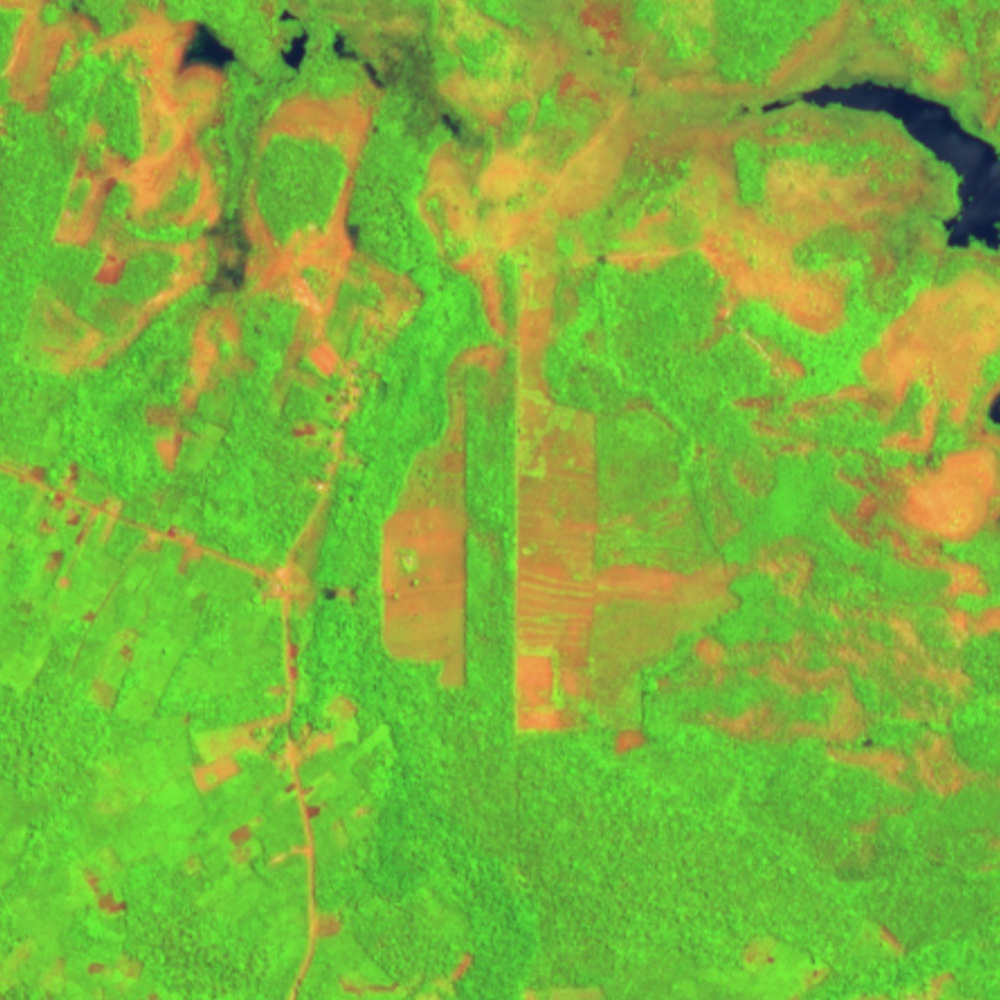legal: (1, 1, 426, 479), (430, 1, 1000, 340), (507, 254, 760, 757), (764, 355, 980, 796), (179, 695, 406, 995), (374, 340, 475, 697), (11, 459, 217, 593), (72, 854, 160, 1000), (56, 539, 120, 714), (737, 927, 825, 996), (410, 948, 481, 1000), (514, 978, 608, 1000), (868, 911, 907, 953), (310, 582, 365, 609), (280, 640, 311, 685)
